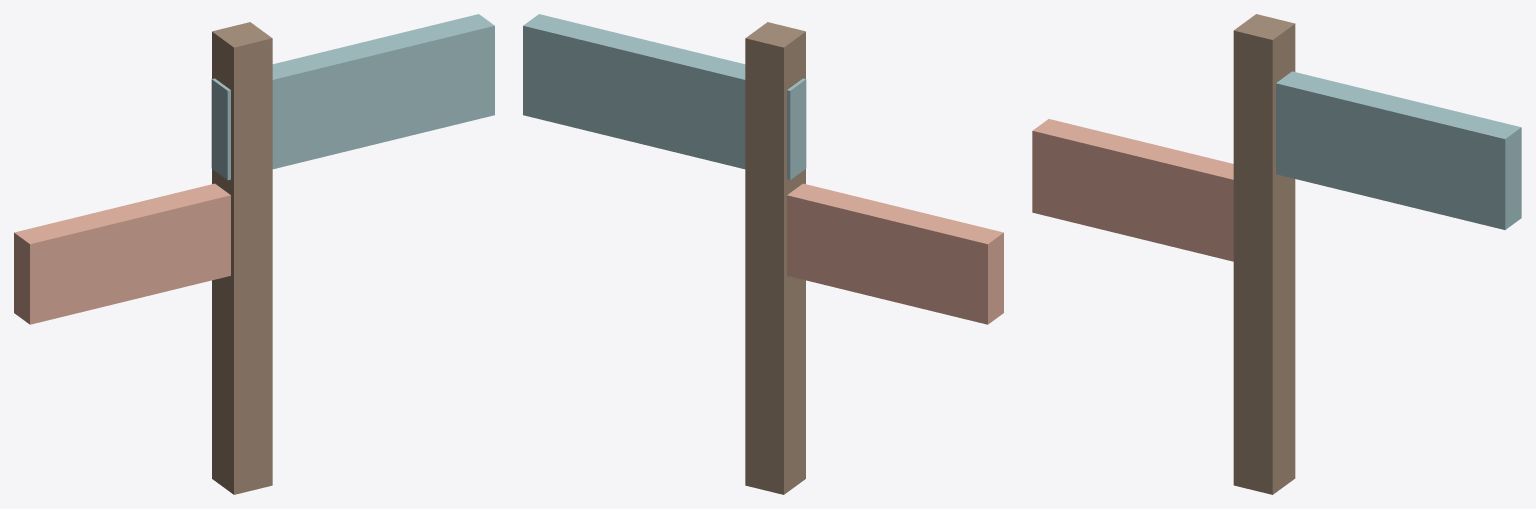
Rendered from signpost.glb.
3 renders of one model, left to right at view 1: azimuth 30°, elevation 25°; view 2: azimuth 150°, elevation 25°; view 3: azimuth 330°, elevation 25°, orthographic.
Parts seen in each view (by area): view 1: sign-east, post, sign-west; view 2: sign-east, post, sign-west; view 3: post, sign-east, sign-west.
Part boxes in pixels (x1,y1,x2,y2): sign-east: [211, 14, 494, 180]; post: [212, 22, 272, 494]; sign-west: [14, 183, 230, 324]; sign-east: [523, 14, 806, 180]; post: [745, 22, 805, 494]; sign-west: [787, 183, 1003, 324]; post: [1233, 14, 1295, 494]; sign-east: [1276, 71, 1521, 229]; sign-west: [1032, 119, 1233, 261].
Size of the model in its own units: 2.17 by 2 by 0.18.
